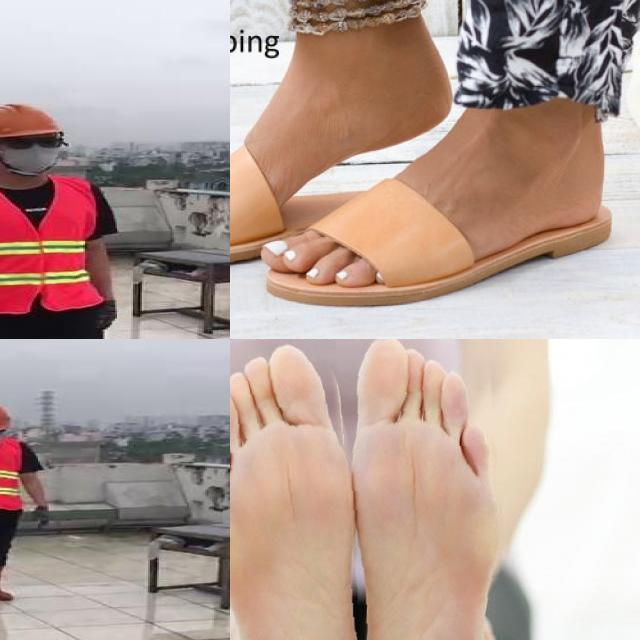Barefoots: (340, 348, 511, 640), (230, 339, 366, 640)
Sandals: (256, 82, 614, 304)
boots: (0, 561, 18, 602)
face_mask: (0, 134, 66, 174), (0, 425, 9, 444)
glasses: (0, 131, 74, 154)
hand_glove: (99, 298, 119, 329), (31, 505, 52, 531)
head_helmet: (0, 100, 61, 141), (0, 400, 15, 433)
person: (0, 98, 140, 339), (0, 398, 53, 618)
vest: (0, 179, 99, 313), (0, 437, 22, 511)
